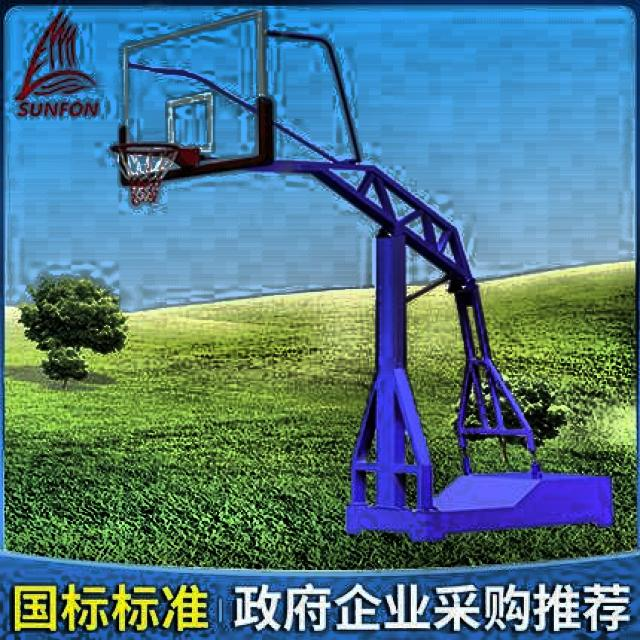rim: (111, 140, 176, 208)
